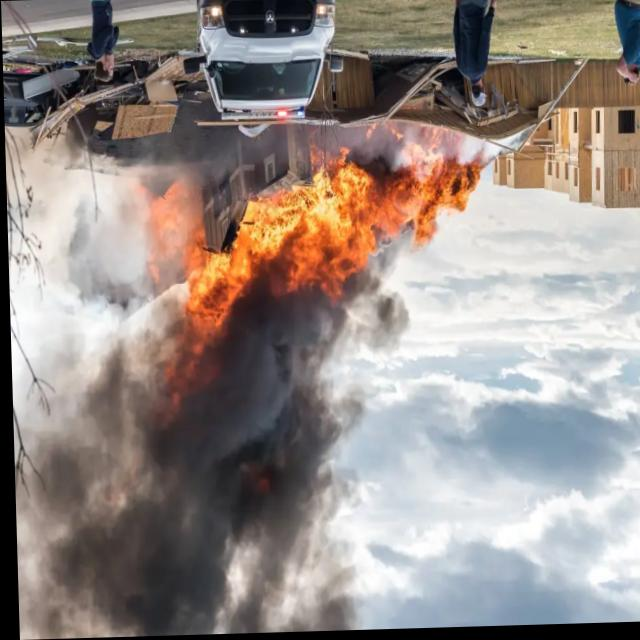Fire: (155, 172, 384, 303), (373, 128, 488, 261)
